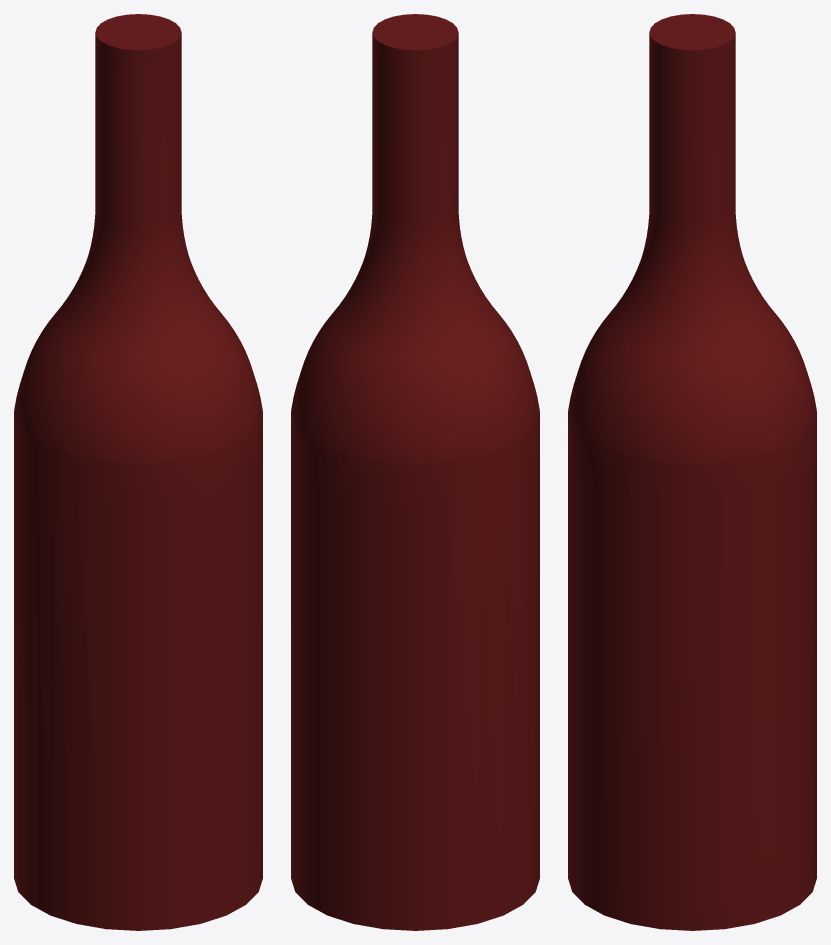
The picture shows the model from 3 angles, left to right: view 1: azimuth 30°, elevation 25°; view 2: azimuth 150°, elevation 25°; view 3: azimuth 270°, elevation 25°; orthographic projection.
Visible parts, largest first — view 1: mesh1_mesh1-geometry; view 2: mesh1_mesh1-geometry; view 3: mesh1_mesh1-geometry.
Part boxes in pixels (left/top/right/bottom): mesh1_mesh1-geometry: left=14, top=14, right=262, bottom=930; mesh1_mesh1-geometry: left=291, top=14, right=539, bottom=930; mesh1_mesh1-geometry: left=568, top=14, right=816, bottom=930.
Bounding box in the file's own units: 0.2495 × 0.9357 × 0.2495.
